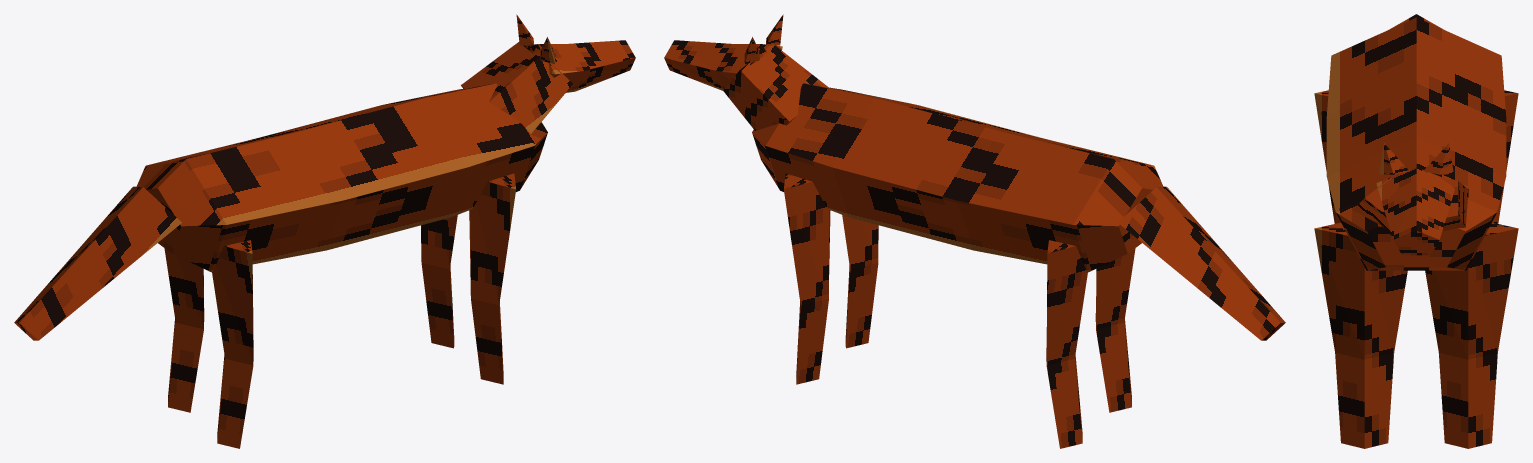
Rendered from zorro.glb.
The picture shows the model from 3 angles, left to right: view 1: azimuth 30°, elevation 25°; view 2: azimuth 150°, elevation 25°; view 3: azimuth 270°, elevation 25°; orthographic projection. The views are drawn at different scales.
Visible parts, largest first — view 1: cuerpo, cola, pata_delantera_der, pata_trasera_der, cuello, pata_trasera_izq, pata_delantera_izq, cabeza; view 2: cuerpo, cola, pata_delantera_izq, pata_trasera_izq, cuello, pata_trasera_der, pata_delantera_der, cabeza; view 3: cuerpo, pata_delantera_izq, pata_delantera_der, cabeza, cuello, orejas, pata_trasera_izq, pata_trasera_der.
Boxes of the visible parts, x1,y1,x2,y2 form: cuerpo: (136, 83, 547, 272); cola: (14, 186, 181, 340); pata_delantera_der: (469, 173, 515, 384); pata_trasera_der: (212, 240, 253, 448); cuello: (461, 42, 572, 133); pata_trasera_izq: (164, 248, 204, 412); pata_delantera_izq: (421, 215, 457, 348); cabeza: (523, 40, 635, 92); cuerpo: (752, 83, 1163, 272); cola: (1118, 186, 1285, 340); pata_delantera_izq: (784, 173, 830, 384); pata_trasera_izq: (1046, 240, 1087, 448); cuello: (723, 45, 829, 130); pata_trasera_der: (1095, 248, 1135, 412); pata_delantera_der: (842, 215, 878, 348); cabeza: (664, 40, 782, 90); cuerpo: (1326, 17, 1506, 270); pata_delantera_izq: (1425, 222, 1518, 448); pata_delantera_der: (1314, 222, 1407, 448); cabeza: (1376, 167, 1454, 255); cuello: (1353, 173, 1468, 235); orejas: (1379, 143, 1453, 174); pata_trasera_izq: (1492, 90, 1518, 223); pata_trasera_der: (1314, 90, 1340, 223).
Size of the model in its own units: 0.9 by 0.45 by 0.25.
1 material, 1 textured.
